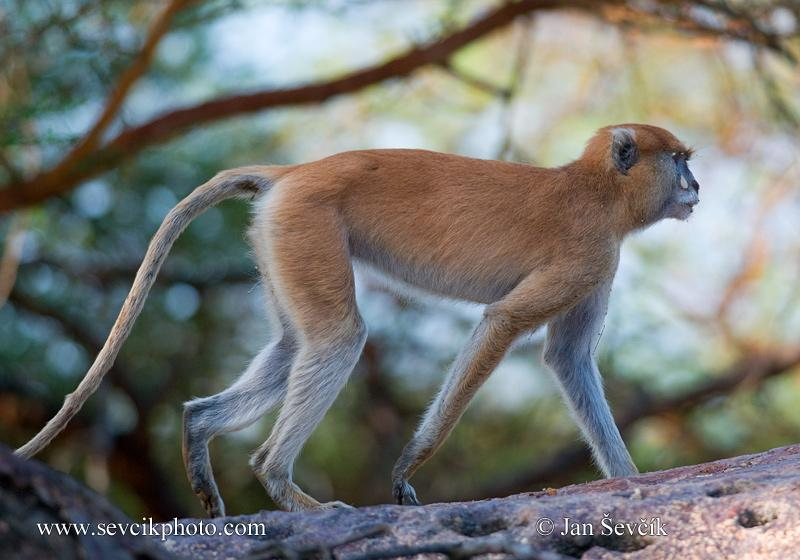monkey: (184, 124, 702, 515)
